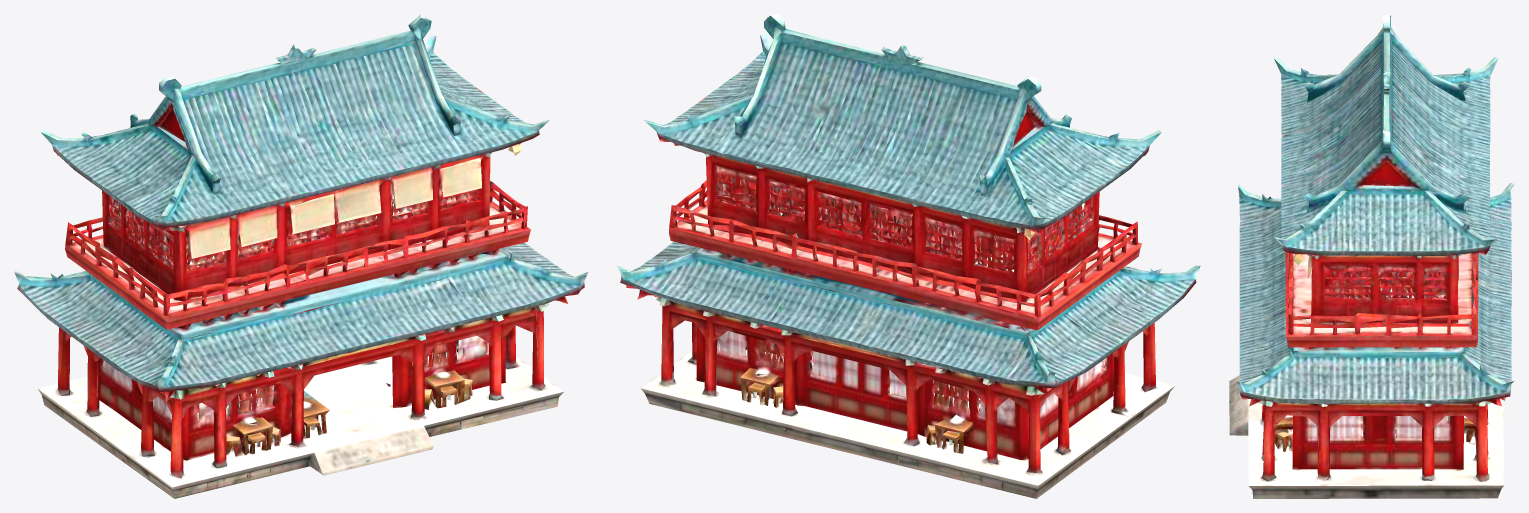
The model's file is qm_shop2_lo.glb.
3 renders of one model, left to right at view 1: azimuth 30°, elevation 25°; view 2: azimuth 150°, elevation 25°; view 3: azimuth 270°, elevation 25°, orthographic. The views are drawn at different scales.
Parts seen in each view (by area): view 1: qm_shop2; view 2: qm_shop2; view 3: qm_shop2.
Boxes of the visible parts, x1,y1,x2,y2 form: qm_shop2: (14, 14, 588, 498); qm_shop2: (617, 14, 1200, 498); qm_shop2: (1229, 14, 1514, 498).
Size of the model in its own units: 10.11 by 7.99 by 6.1.
Materials: 1 (1 with a texture image).
